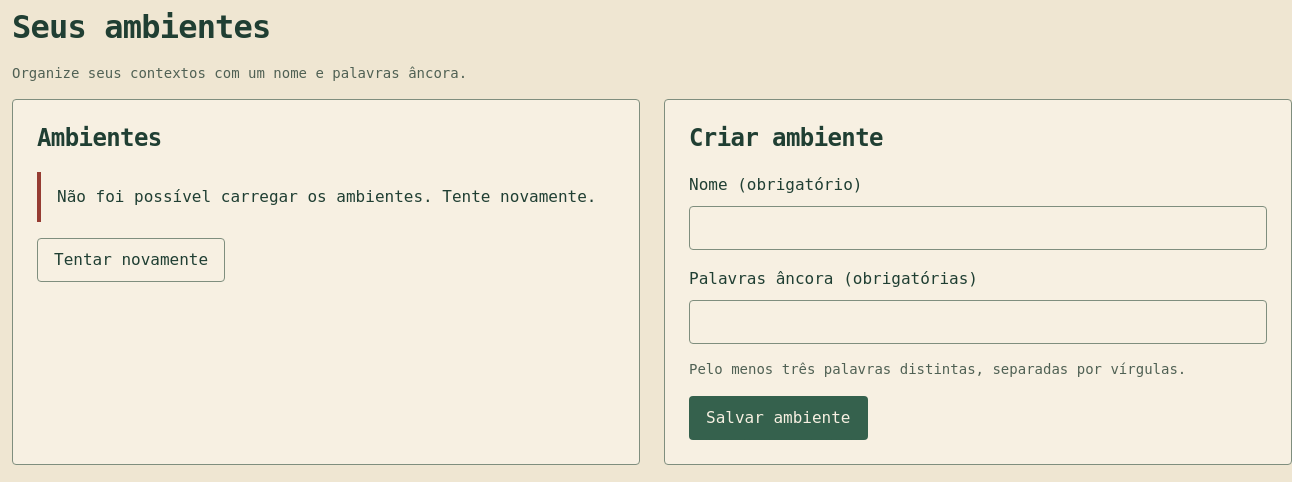
Test: interface da primeira entrega › carregamento falho permite nova tentativa
The width and height of the screenshot is (1292, 482).
Expected: the message shows "Não foi possível carregar", [57,188,596,206]
Click the button "Tentar novamente": (131, 260) [37,238,225,282]
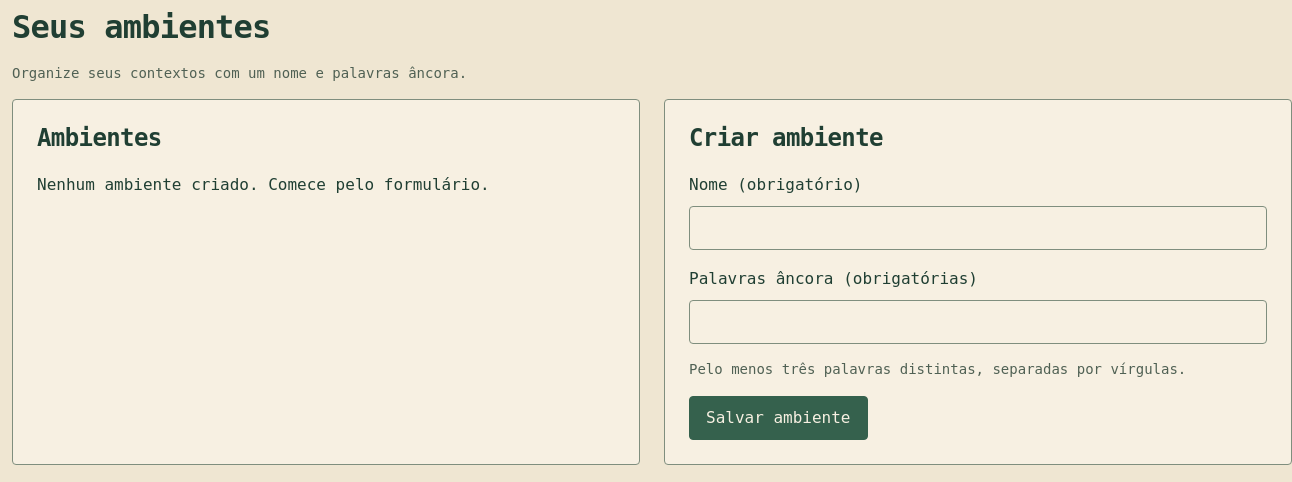
Expected: the text "Nenhum ambiente criado. Comece pelo formulário." is shown, [37,176,490,194]
